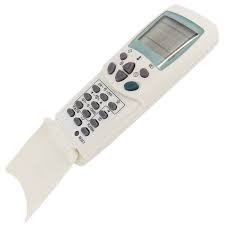remote control: (49, 0, 219, 173)
